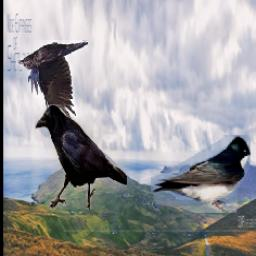Crow: (36, 104, 128, 210), (16, 41, 88, 133)
Swallow: (151, 135, 251, 213)
